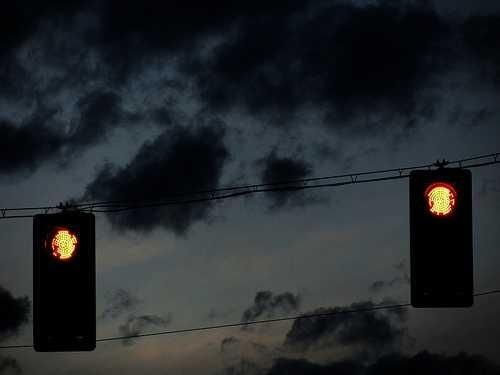red: (28, 206, 102, 353), (406, 163, 478, 310), (407, 167, 474, 222), (32, 210, 98, 264)
